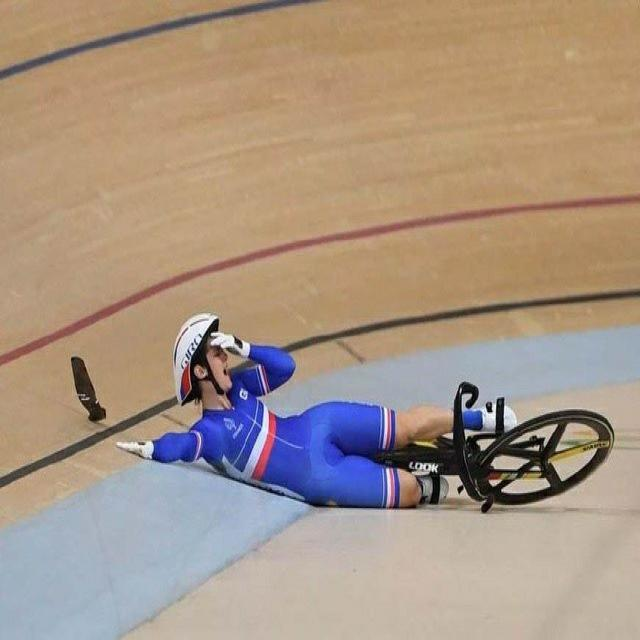down: (108, 289, 524, 514)
